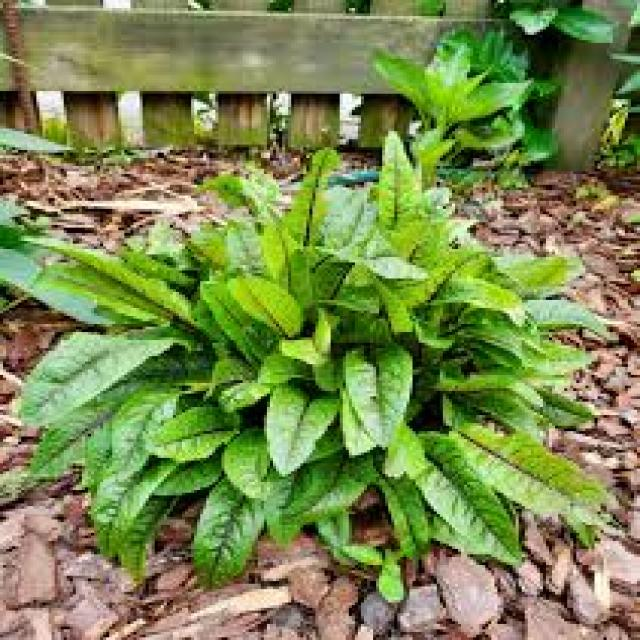organic waste: (0, 150, 628, 602)
